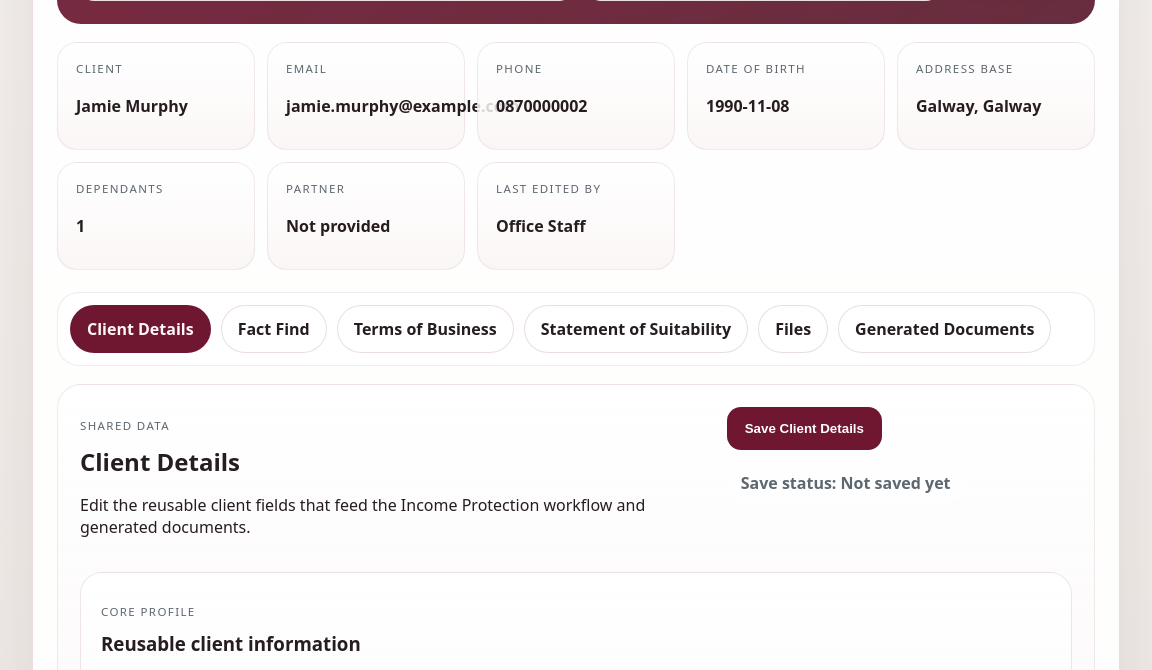
Test: App routes › updates the draft save status inside the Fact Find tab
(page scrolled)
Click the tab "Fact Find".
click(274, 329)  # box [221,305,327,353]
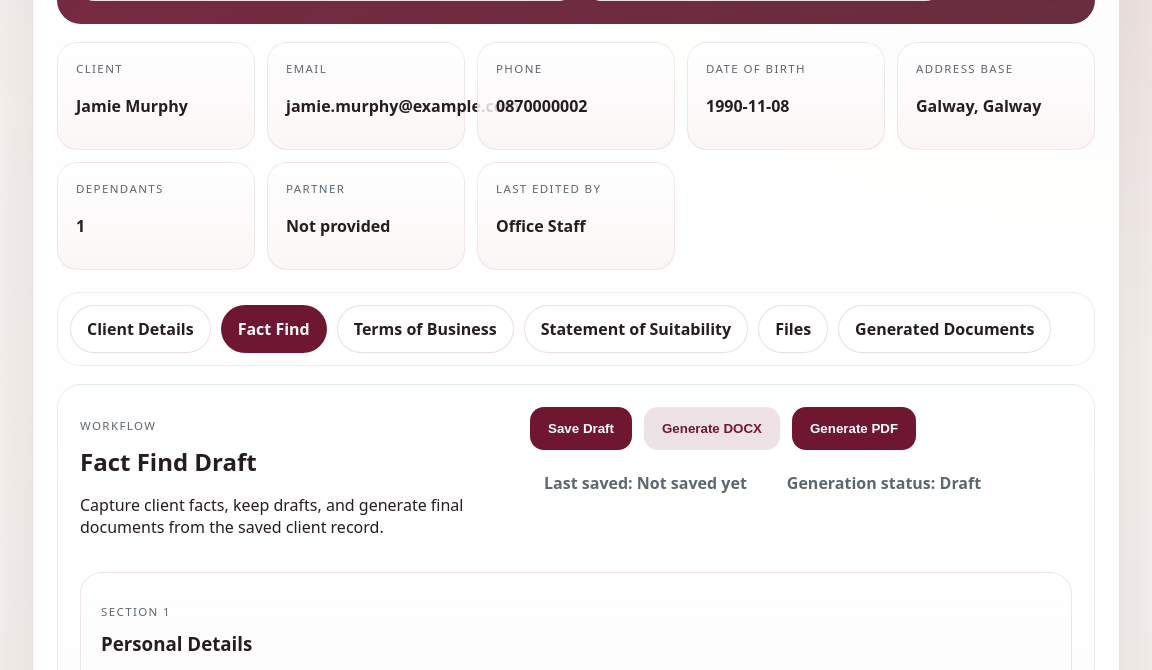
expect the text "Last saved: Not saved yet" is shown: met, box [530,462,761,504]
Click the button "Save Draft".
click(581, 428)  # box [530,407,632,450]
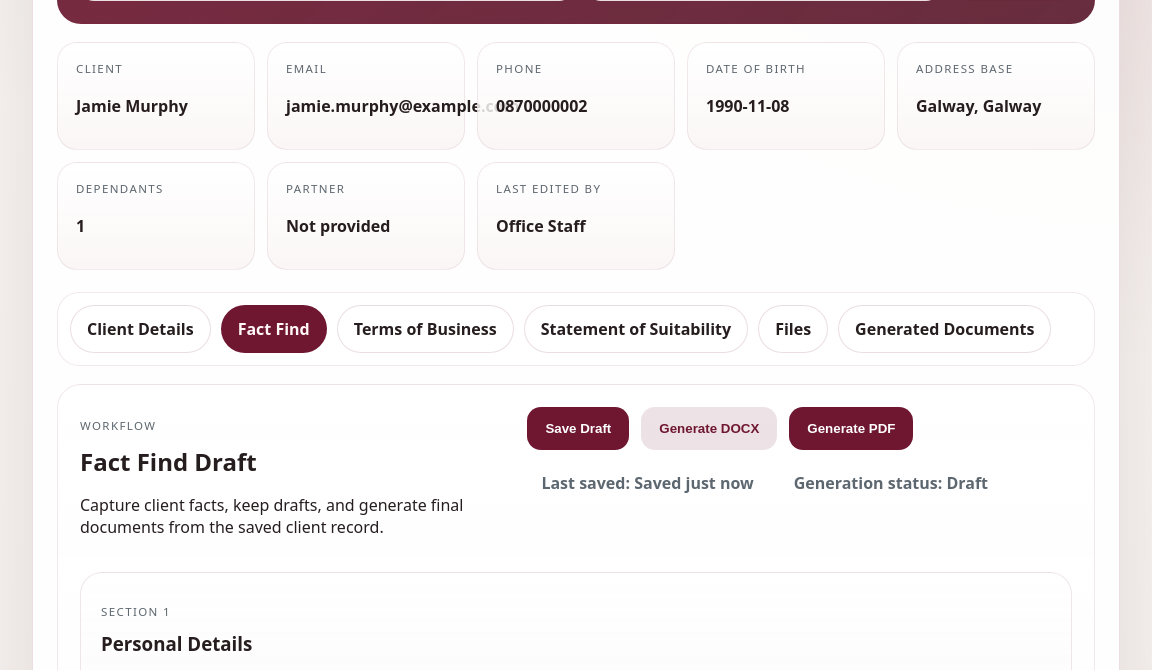
expect the text "Last saved: Saved just now" is shown: met, box [527,462,768,504]
